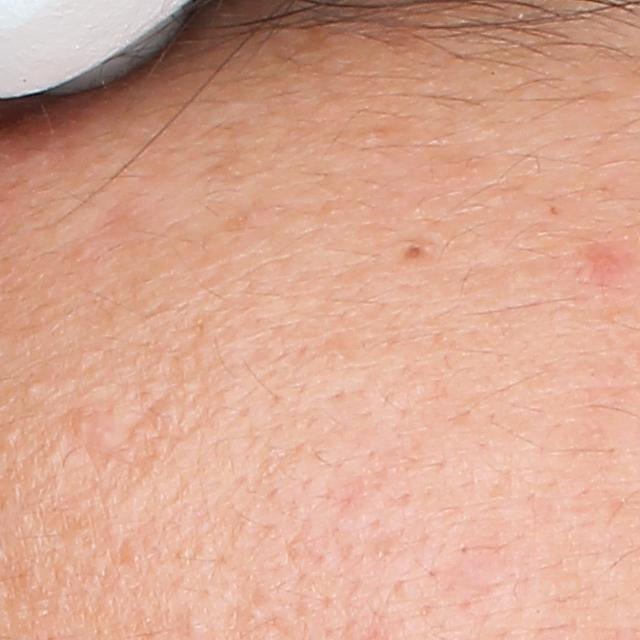comedo: (22, 374, 48, 400), (399, 241, 426, 262), (0, 427, 21, 452)
